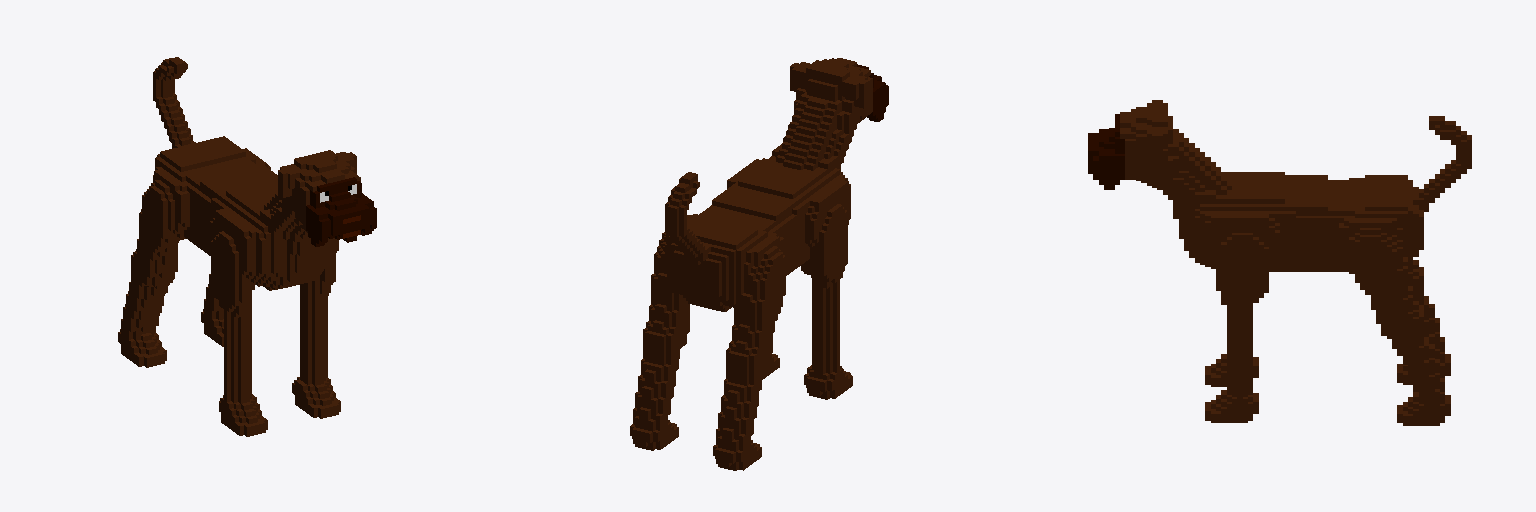
The picture shows the model from 3 angles: view 1: azimuth 30°, elevation 25°; view 2: azimuth 150°, elevation 25°; view 3: azimuth 270°, elevation 25°; orthographic projection.
Visible parts, largest first — view 1: object 1; view 2: object 1; view 3: object 1.
Part boxes in pixels (x1,y1,x2,y2): object 1: (118,57,376,436); object 1: (630,58,888,470); object 1: (1088,100,1471,425).
Size of the model in its own units: 2.4 by 5.9 by 7.2.
1 materials, 1 textured.